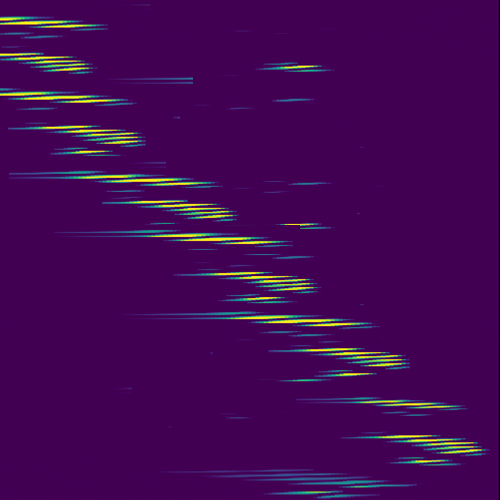semblance: (199, 266, 319, 303), (27, 122, 144, 156), (373, 429, 486, 464), (300, 344, 409, 379), (65, 167, 211, 191), (129, 197, 235, 225), (227, 312, 373, 331), (1, 47, 98, 75), (140, 232, 290, 248), (1, 88, 132, 106), (1, 11, 110, 30), (352, 396, 456, 414)
